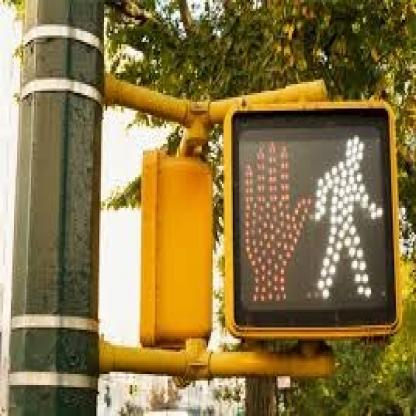Don-t Walk: (236, 117, 309, 331)
Walk: (314, 111, 384, 326)
